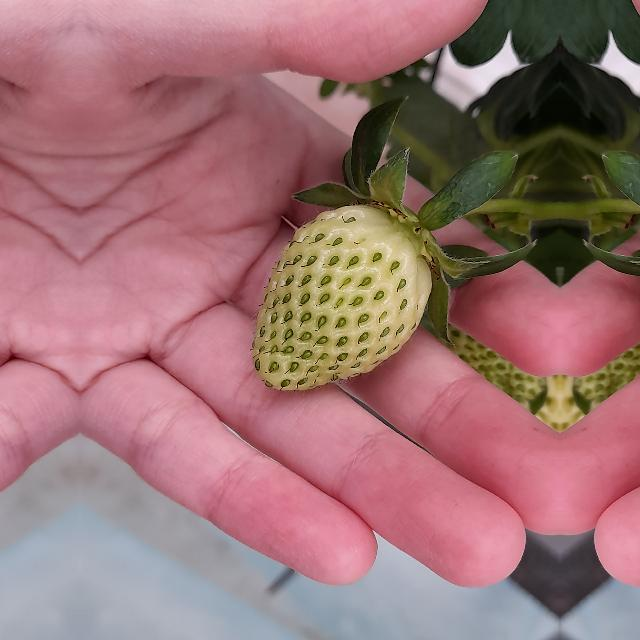Health_25: (250, 204, 432, 390)
